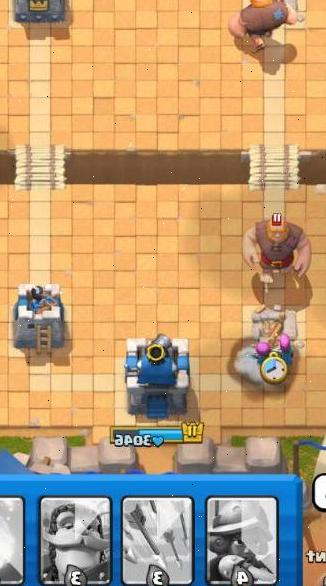enemy_giant: (238, 211, 316, 282)
player_archers: (274, 326, 300, 363), (250, 332, 275, 365)
player_giant: (223, 0, 298, 53)
